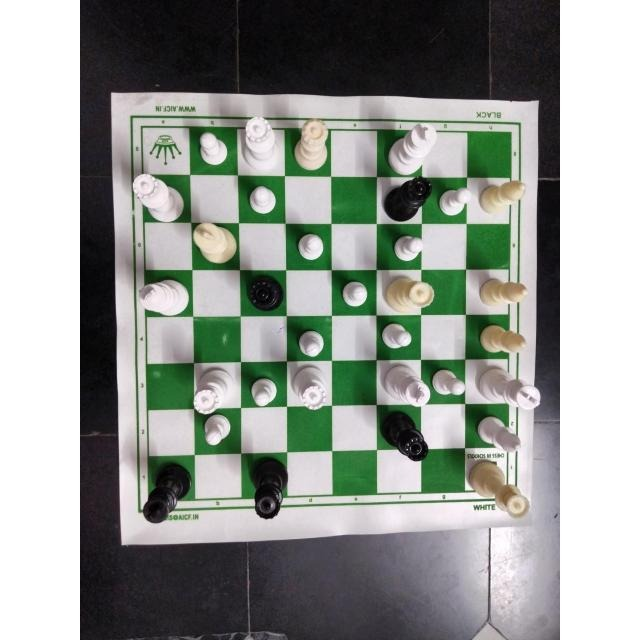black-king: (141, 465, 193, 525)
black-queen: (246, 456, 293, 523), (378, 411, 430, 463), (383, 176, 431, 224), (246, 270, 285, 315)
white-bishop: (474, 413, 526, 456), (480, 177, 532, 217), (477, 277, 530, 311), (476, 324, 527, 358)
white-king: (385, 120, 440, 181), (477, 363, 541, 409), (187, 222, 239, 268), (382, 364, 432, 410), (136, 278, 188, 314)
white-pawn: (194, 129, 234, 168), (197, 411, 236, 449), (291, 229, 331, 266), (377, 318, 414, 355), (244, 181, 280, 217), (435, 185, 473, 219), (247, 374, 281, 410), (433, 368, 469, 400), (340, 275, 372, 308), (293, 323, 323, 357), (390, 234, 424, 261)
white-queen: (466, 457, 530, 521), (127, 171, 184, 219), (240, 115, 281, 173), (381, 270, 438, 311), (190, 364, 234, 416), (292, 119, 332, 175), (289, 364, 333, 414)
